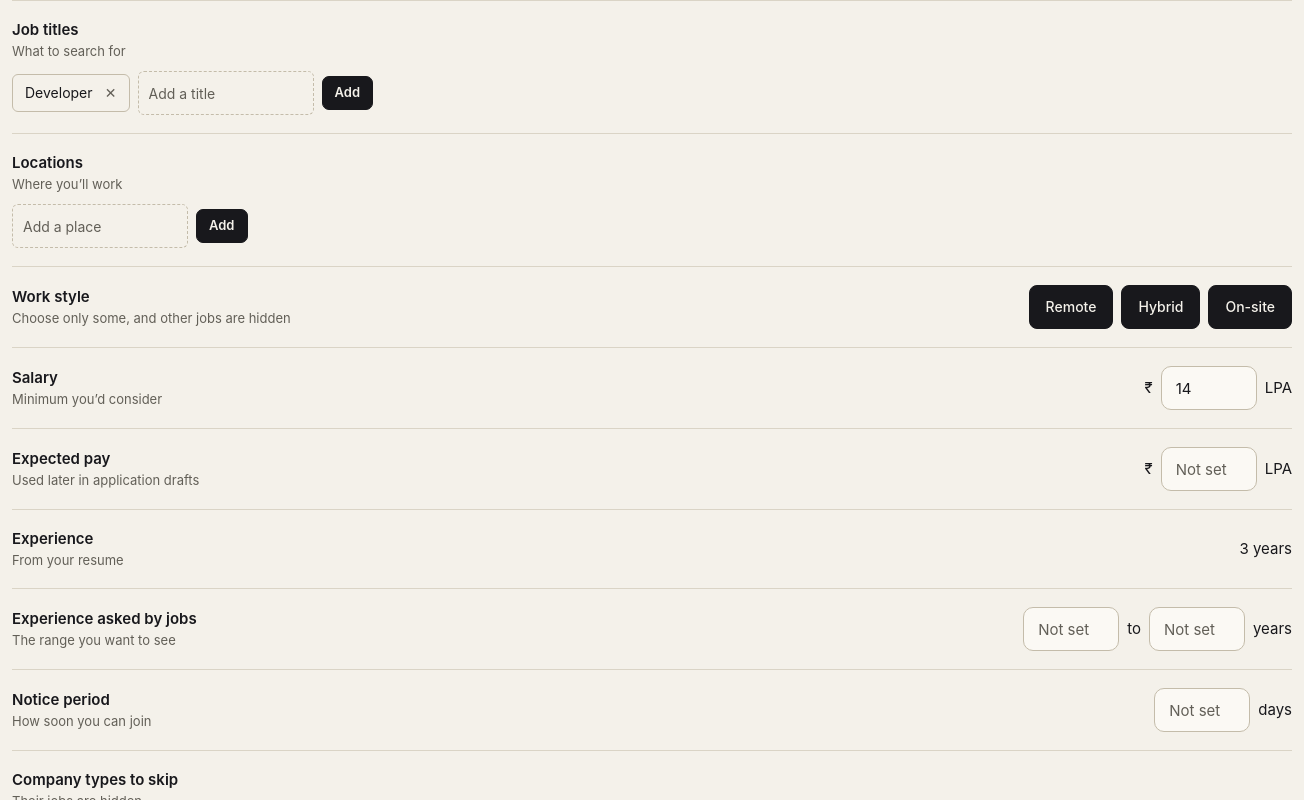
it: Settings > Search with the API › saves a change with its version, and Undo reads the old values again
Type "30" into the field named "Notice period in days" at x=1202, y=710, box [1154,688,1250,732]
(page scrolled)
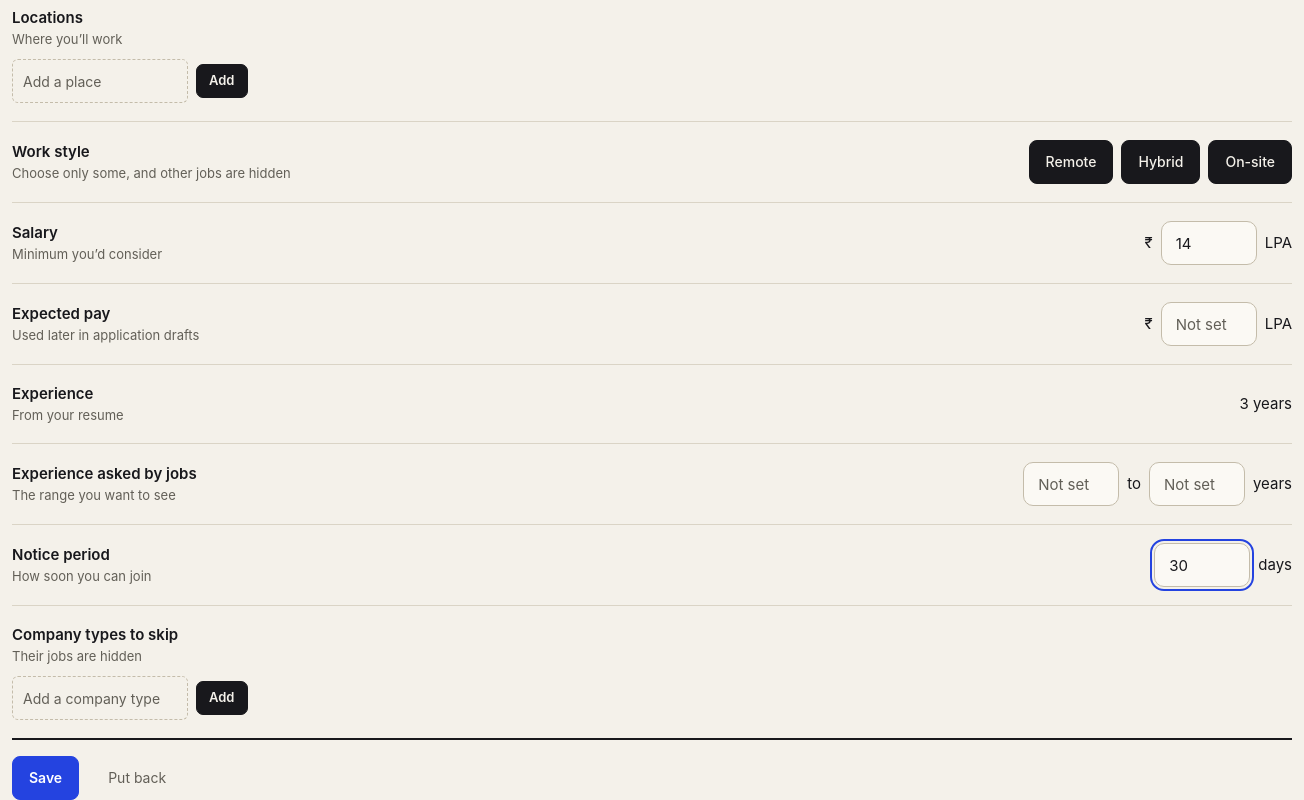
Click the button "Save" at x=46, y=778, box [12,756,79,799]
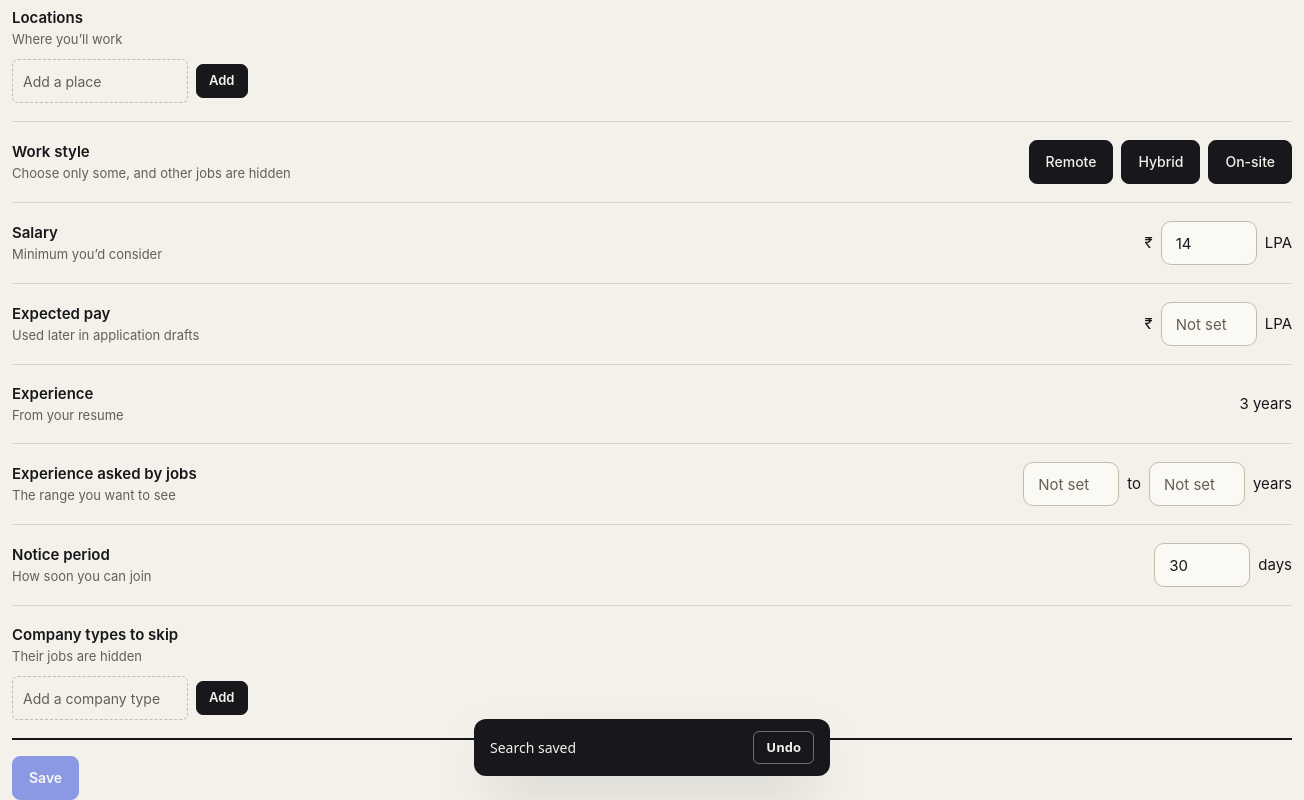
Expected: the field named "Notice period in days" holds "30", [1154,543,1250,587]
Expected: the text "Search saved" is shown, [490,738,576,758]
Click the button "Undo" at x=784, y=748, box [753,731,814,764]
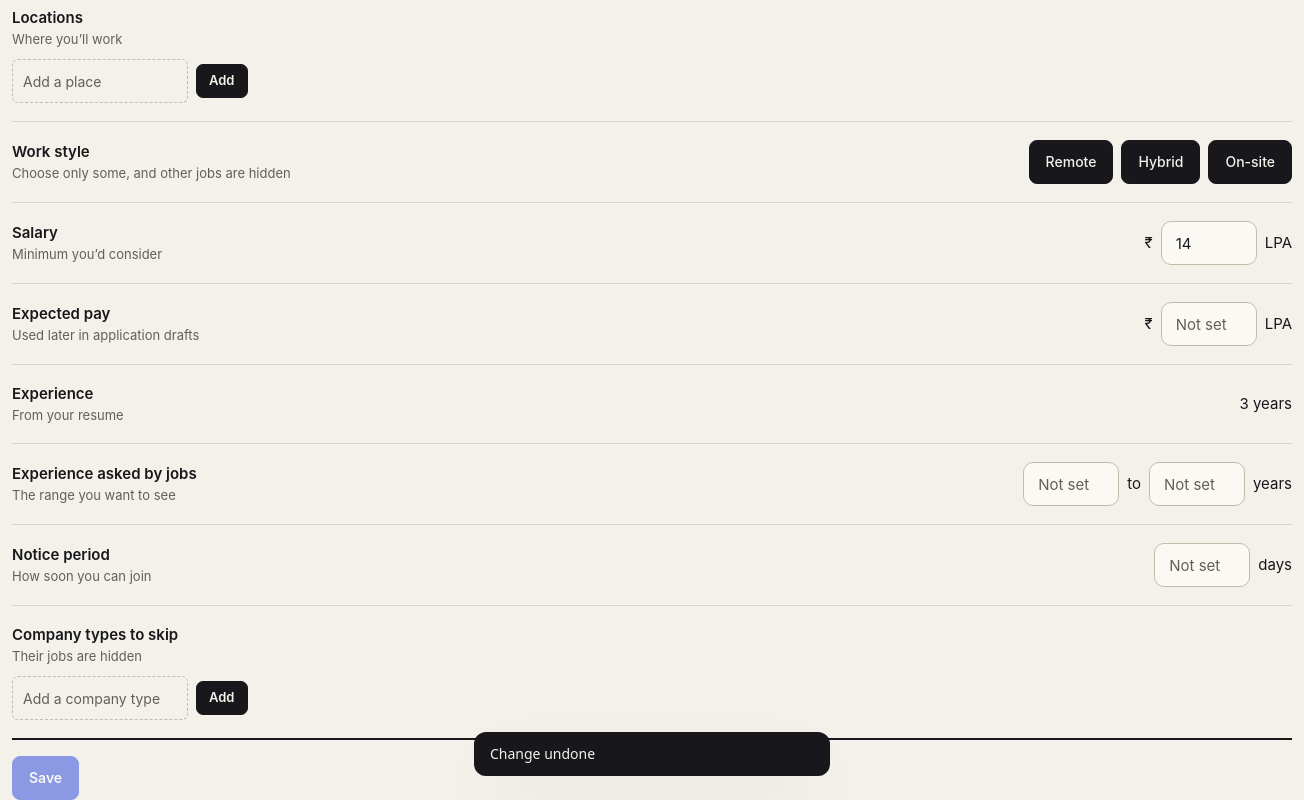
Expected: the text "Change undone" is shown, [490,744,595,764]
Expected: the field named "Notice period in days" is empty, [1154,543,1250,587]
